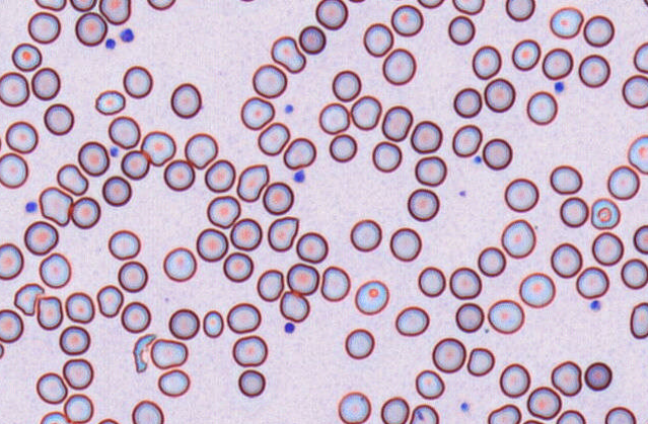PLT: (118, 26, 136, 43), (291, 167, 309, 184), (107, 144, 121, 159), (589, 299, 603, 312), (104, 37, 117, 50), (26, 200, 38, 213), (284, 321, 296, 334), (554, 81, 566, 93), (283, 103, 295, 114), (473, 153, 484, 165), (461, 401, 470, 412)
RBC: (501, 218, 536, 258), (518, 272, 555, 308), (140, 130, 176, 166), (487, 299, 524, 334), (382, 47, 416, 85), (431, 337, 466, 373), (354, 279, 389, 315), (162, 246, 197, 282), (184, 132, 218, 169), (252, 63, 287, 98), (504, 177, 539, 212), (23, 220, 58, 255), (607, 164, 640, 200), (38, 252, 71, 288), (150, 338, 188, 369), (240, 96, 274, 130), (526, 386, 561, 419), (591, 231, 624, 266), (232, 334, 267, 367), (74, 11, 107, 46), (550, 242, 582, 278), (77, 140, 109, 176), (350, 94, 382, 130), (575, 266, 609, 299), (206, 195, 240, 228), (229, 217, 262, 251), (257, 121, 290, 155), (4, 120, 38, 153), (107, 115, 140, 149), (483, 77, 515, 112), (381, 105, 412, 141), (170, 82, 201, 118), (286, 262, 319, 295), (283, 136, 316, 169), (349, 218, 382, 251), (337, 391, 371, 423), (196, 227, 228, 261), (262, 181, 294, 215), (549, 6, 583, 38), (407, 187, 439, 221), (578, 53, 610, 87), (389, 227, 421, 261), (226, 302, 261, 333), (526, 90, 557, 125), (320, 265, 350, 301), (35, 371, 67, 404), (295, 231, 328, 263), (449, 266, 481, 299), (541, 47, 573, 80), (390, 4, 423, 36), (27, 11, 60, 43), (410, 120, 442, 153), (395, 305, 429, 336), (499, 363, 530, 397), (204, 158, 235, 192), (363, 22, 393, 57), (56, 163, 88, 195), (318, 102, 350, 134), (163, 159, 195, 191), (583, 14, 614, 47), (70, 196, 101, 229), (414, 155, 447, 186), (451, 124, 482, 157), (107, 229, 140, 260), (122, 65, 153, 98), (471, 45, 501, 79), (30, 66, 60, 100), (0, 71, 29, 106), (35, 294, 63, 330), (0, 152, 28, 188), (279, 290, 310, 322), (62, 358, 93, 390), (222, 251, 254, 282), (120, 301, 151, 333), (117, 260, 148, 292), (64, 291, 95, 323), (371, 140, 402, 172), (43, 103, 74, 135), (315, 0, 348, 30), (549, 164, 582, 194), (482, 137, 512, 170), (168, 308, 199, 339), (101, 175, 132, 206), (590, 197, 620, 229), (331, 69, 361, 101), (157, 368, 190, 397), (344, 328, 374, 359), (120, 149, 150, 180), (59, 325, 90, 355), (511, 38, 540, 70), (256, 268, 284, 301), (0, 242, 24, 280), (63, 393, 93, 423), (417, 266, 446, 297), (477, 246, 506, 277), (559, 196, 588, 227), (11, 42, 42, 71), (453, 87, 482, 118), (96, 284, 123, 317), (622, 74, 647, 109), (415, 369, 444, 399), (455, 302, 484, 332), (328, 133, 357, 162), (584, 361, 612, 391), (447, 15, 475, 45), (620, 258, 647, 289), (98, 0, 131, 25), (298, 25, 326, 54), (94, 89, 125, 115), (0, 308, 23, 343), (627, 134, 647, 174), (131, 399, 164, 423), (380, 396, 409, 423), (238, 369, 265, 397), (629, 301, 647, 339), (487, 403, 521, 423), (202, 309, 224, 338), (505, 0, 535, 21), (409, 403, 439, 423), (604, 406, 636, 423), (633, 41, 647, 73), (452, 0, 484, 14), (633, 224, 647, 254), (556, 409, 585, 423), (39, 410, 68, 423), (34, 0, 66, 11), (69, 0, 96, 11), (147, 0, 175, 10), (417, 0, 444, 8), (96, 417, 119, 423), (0, 341, 4, 359)
Schistocyte: (39, 187, 75, 228), (271, 36, 307, 75), (236, 163, 270, 203), (13, 281, 46, 318), (267, 217, 300, 254), (552, 361, 583, 399), (132, 333, 157, 375), (467, 347, 495, 377)
